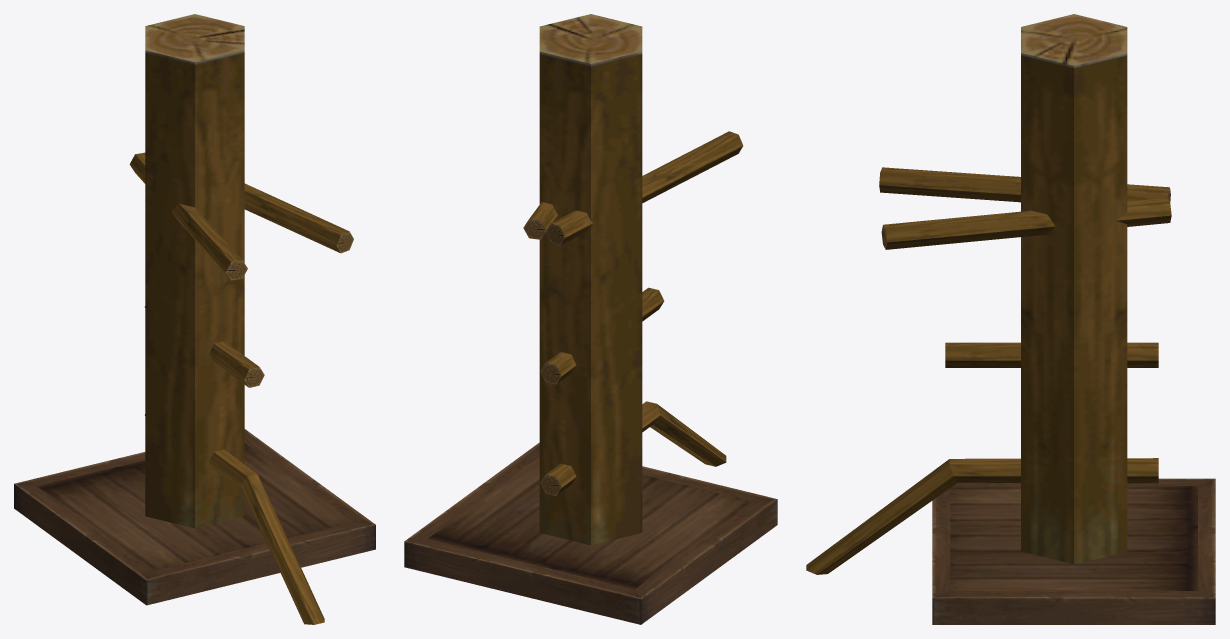
File: Item_3001_dimianwujian_muzhuang.FBX
3 views of the same model, side by side, from view 1: azimuth 30°, elevation 25°; view 2: azimuth 150°, elevation 25°; view 3: azimuth 270°, elevation 25° (orthographic). The views are drawn at different scales.
Visible parts, largest first — view 1: Item_3001_dimianwujian_muzhuang; view 2: Item_3001_dimianwujian_muzhuang; view 3: Item_3001_dimianwujian_muzhuang.
Part boxes in pixels (left/top/right/bottom): Item_3001_dimianwujian_muzhuang: left=14, top=14, right=375, bottom=624; Item_3001_dimianwujian_muzhuang: left=404, top=14, right=777, bottom=624; Item_3001_dimianwujian_muzhuang: left=806, top=14, right=1215, bottom=624.
Bounding box in the file's own units: 112 × 232 × 162.
